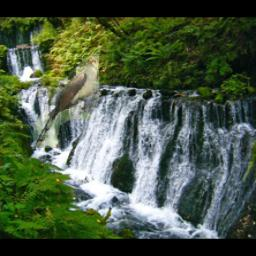Cuckoo: (35, 54, 100, 149)
